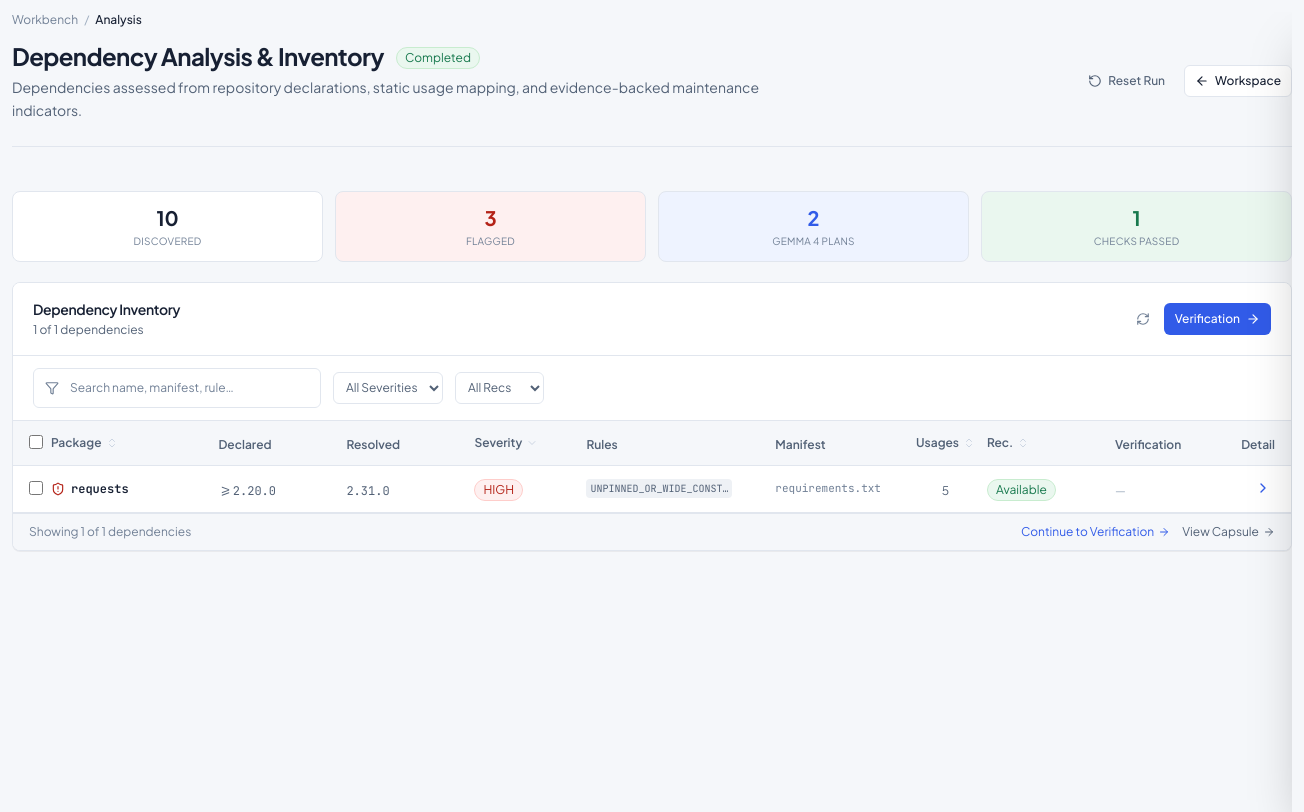
Test: AnalysisPage — recommendation retry › shows retry panel when a dependency is selected
Check: the text "requests" is shown, box [71, 480, 129, 496]
Click the checkbox named "Select requests" at (36, 488), box [29, 480, 43, 494]
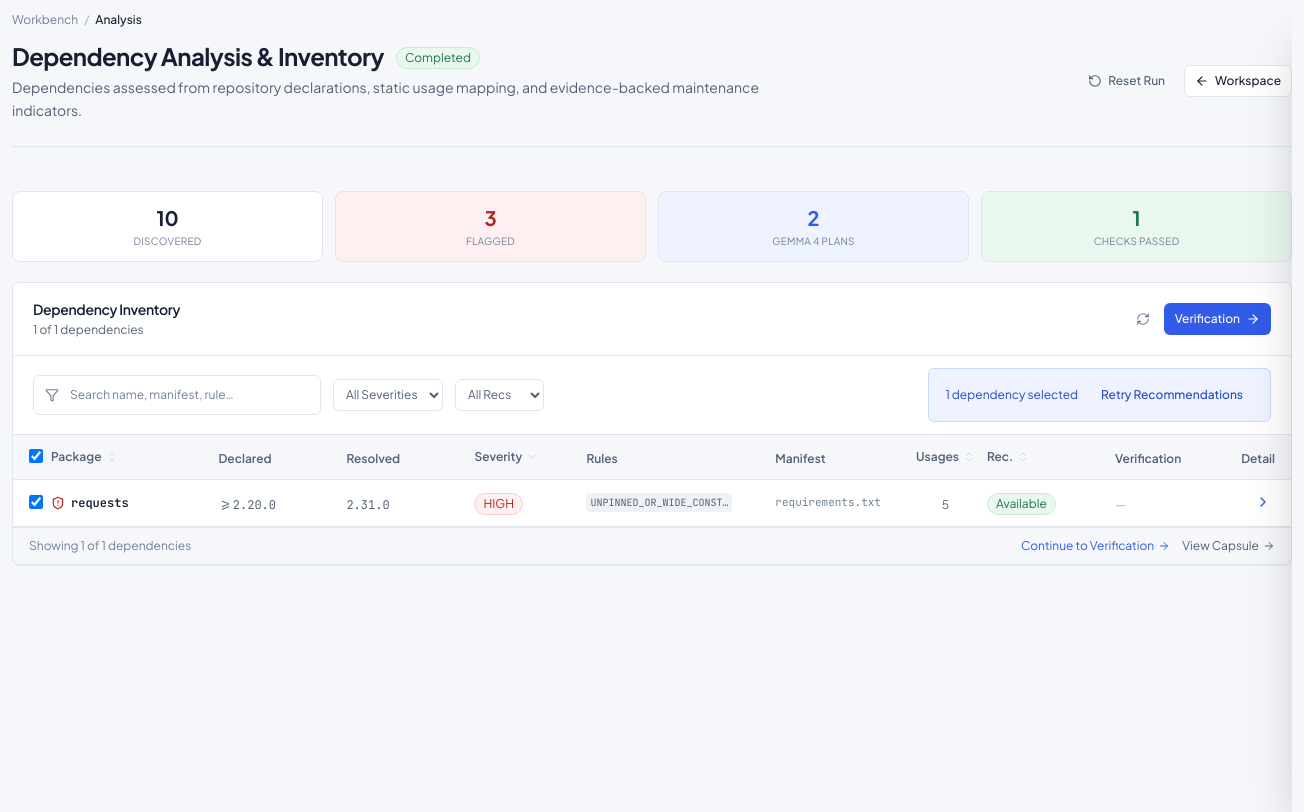
Check: the text "Retry Recommendations" is shown, box [1101, 386, 1243, 402]
